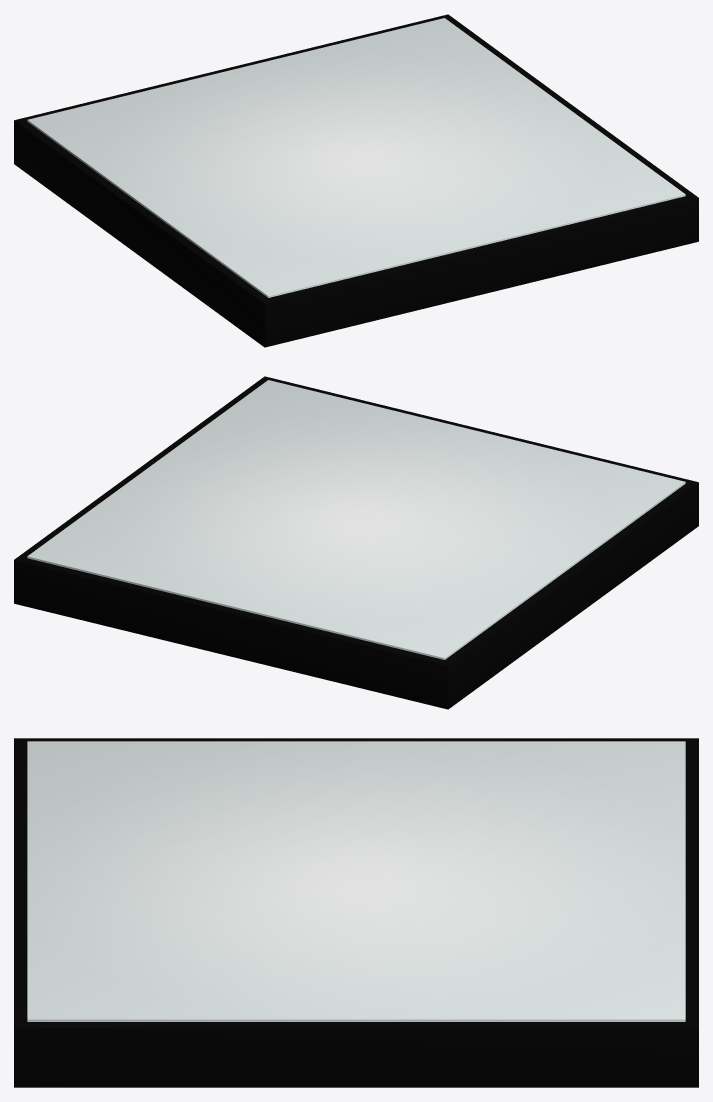
The model's file is square-tile.fbx.
3 views of the same model, one above another, from view 1: azimuth 30°, elevation 25°; view 2: azimuth 150°, elevation 25°; view 3: azimuth 270°, elevation 25° (orthographic). The views are drawn at different scales.
Parts seen in each view (by area): view 1: SquareTileBase; view 2: SquareTileBase; view 3: SquareTileBase.
Boxes of the visible parts, box(x1,y1,x2,y2) form: SquareTileBase: box(14, 14, 698, 347); SquareTileBase: box(14, 376, 698, 709); SquareTileBase: box(14, 738, 698, 1087).
Bounding box in the file's own units: 200 × 20.22 × 200.
